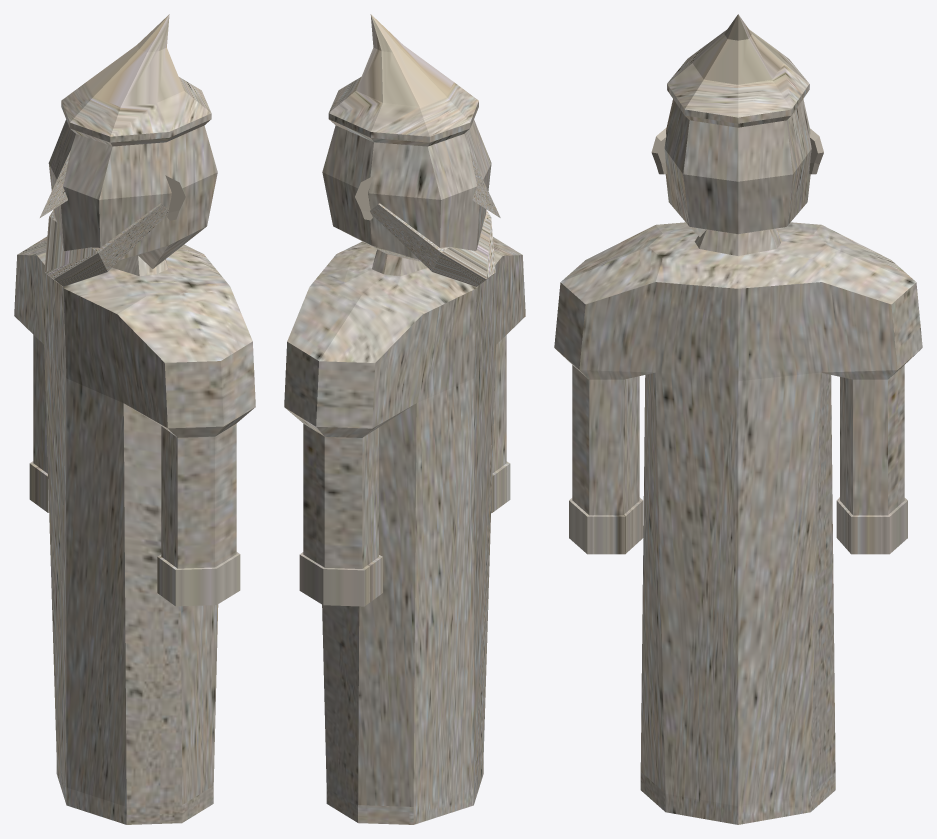
Rendered from Statue6.fbx.
3 renders of one model, left to right at view 1: azimuth 30°, elevation 25°; view 2: azimuth 150°, elevation 25°; view 3: azimuth 270°, elevation 25°, orthographic. The views are drawn at different scales.
Parts seen in each view (by area): view 1: Circle, Cube.001, Cube, Circle.001; view 2: Circle, Cube.001, Cube, Circle.001; view 3: Circle, Circle.001.
Part boxes in pixels (box(x1,y1,x2,y2)): Circle: box(14, 14, 255, 824); Cube.001: box(44, 203, 169, 286); Cube: box(40, 151, 70, 217); Circle.001: box(165, 175, 185, 220); Circle: box(284, 14, 525, 824); Cube.001: box(370, 203, 495, 286); Cube: box(469, 151, 500, 217); Circle.001: box(355, 176, 373, 220); Circle: box(554, 14, 922, 824); Circle.001: box(651, 127, 823, 174).
Size of the model in its own units: 48.21 by 212 by 89.1.
